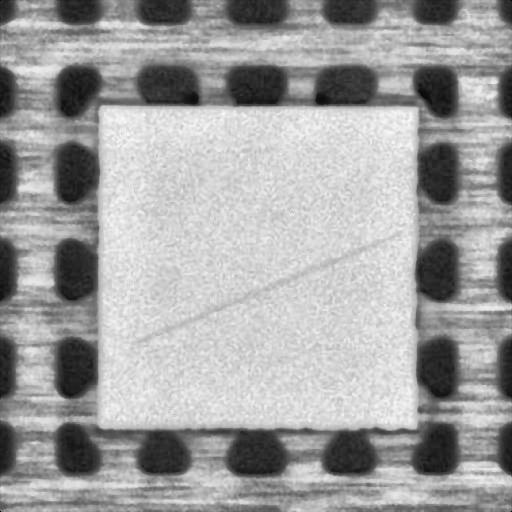DIE_CRACK: (136, 227, 408, 336)
